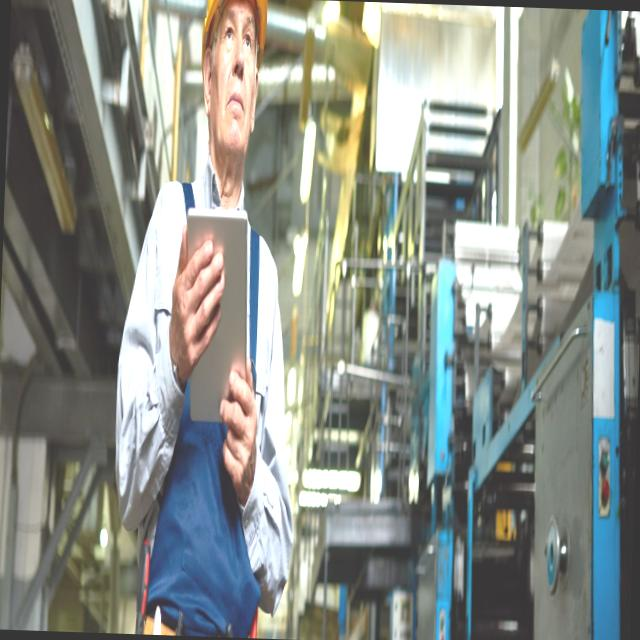helmet: (198, 0, 275, 49)
no-goggles: (208, 18, 261, 72)
no-vest: (140, 206, 264, 581)
